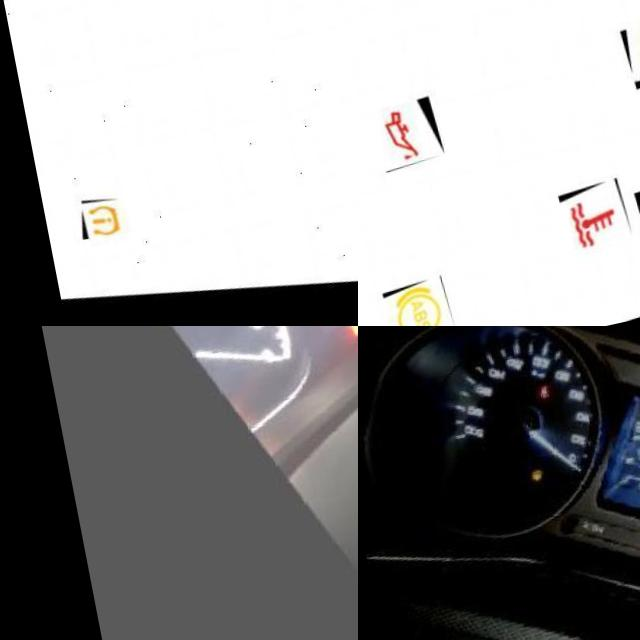Seat Belt: (533, 391, 549, 408)
